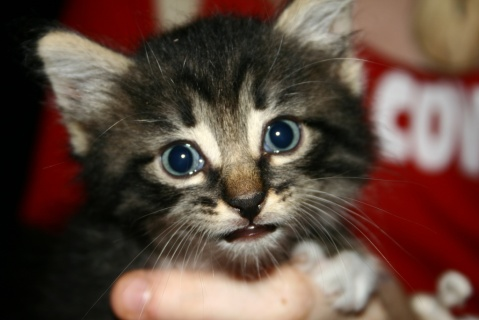Cat: (35, 2, 425, 319)
